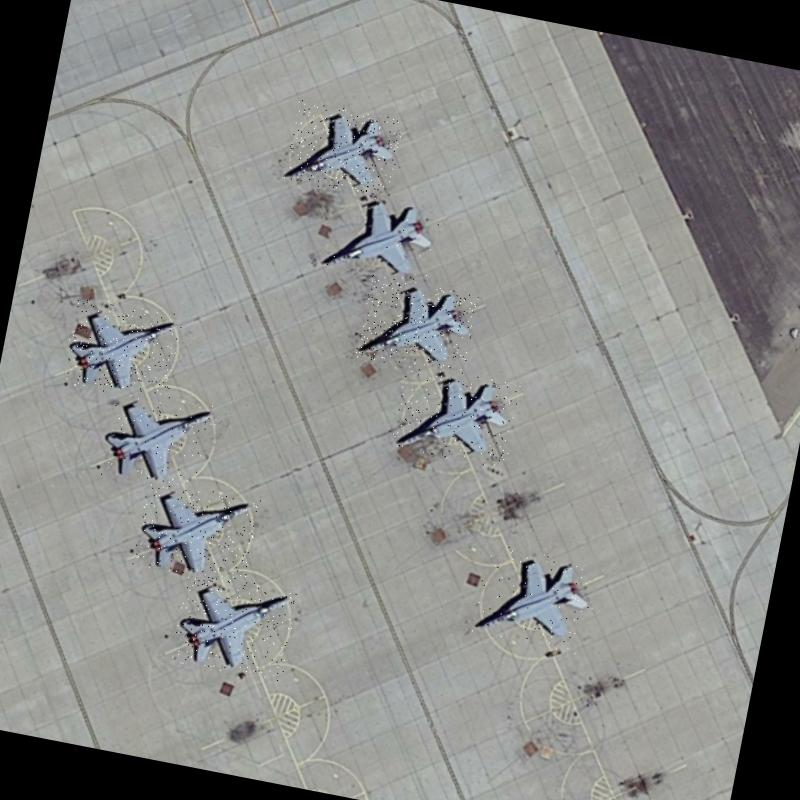A16: (470, 543, 601, 656), (170, 570, 299, 682), (390, 362, 523, 470), (132, 478, 262, 588), (60, 294, 183, 404), (96, 386, 218, 494), (354, 274, 478, 378), (282, 99, 404, 200), (322, 187, 446, 286)
